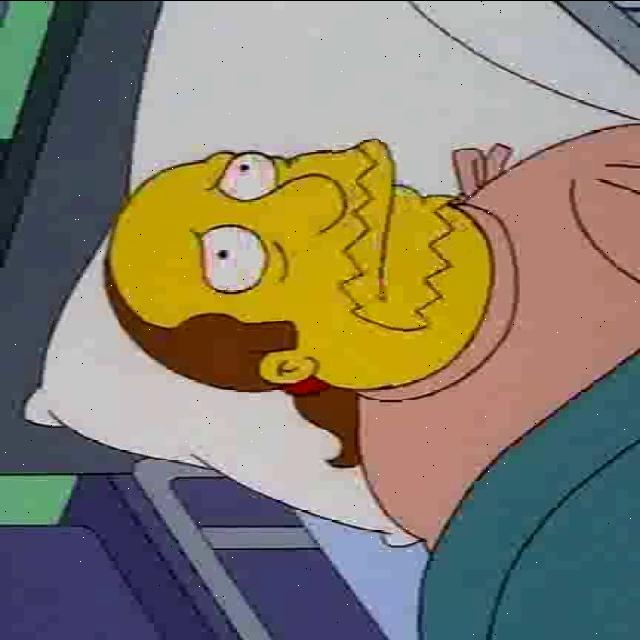Comic Book Guy: (102, 136, 500, 427)
